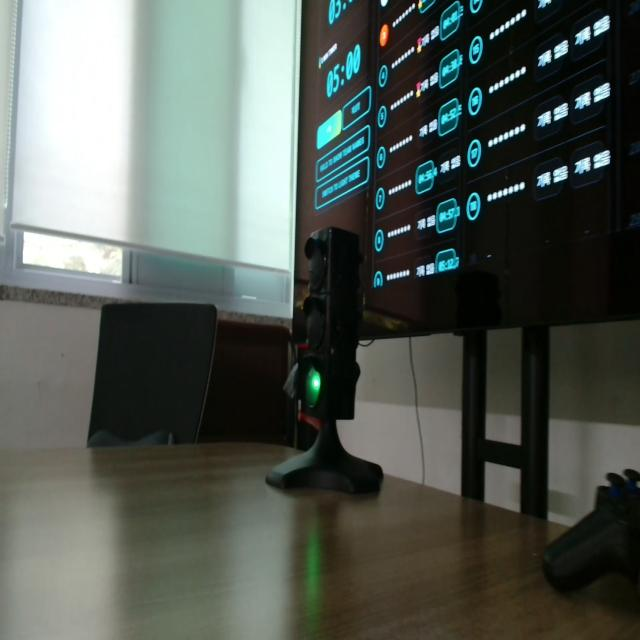green_light: (306, 367, 321, 407)
